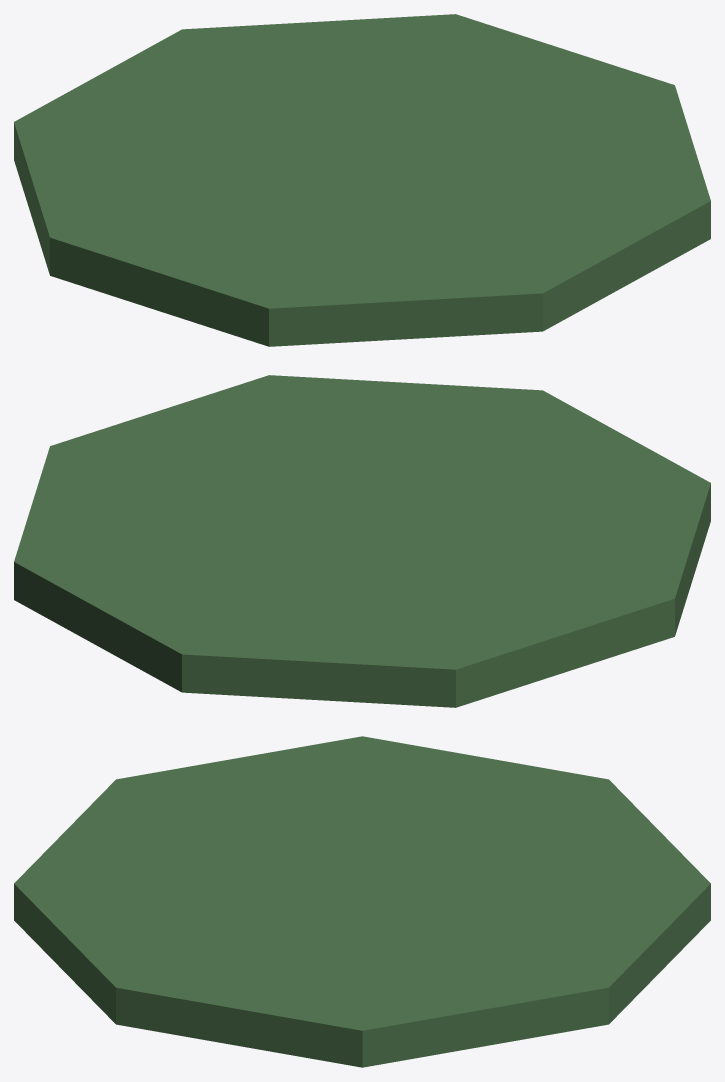
The model's file is LilypadUnnotched.fbx.
The picture shows the model from 3 angles, top to bottom: view 1: azimuth 30°, elevation 25°; view 2: azimuth 150°, elevation 25°; view 3: azimuth 270°, elevation 25°; orthographic projection. The views are drawn at different scales.
Parts seen in each view (by area): view 1: Lilypad; view 2: Lilypad; view 3: Lilypad.
Boxes of the visible parts, x1,y1,x2,y2 form: Lilypad: (14, 14, 710, 346); Lilypad: (14, 375, 710, 707); Lilypad: (14, 736, 710, 1067).
Bounding box in the file's own units: 200 × 11.67 × 200.
